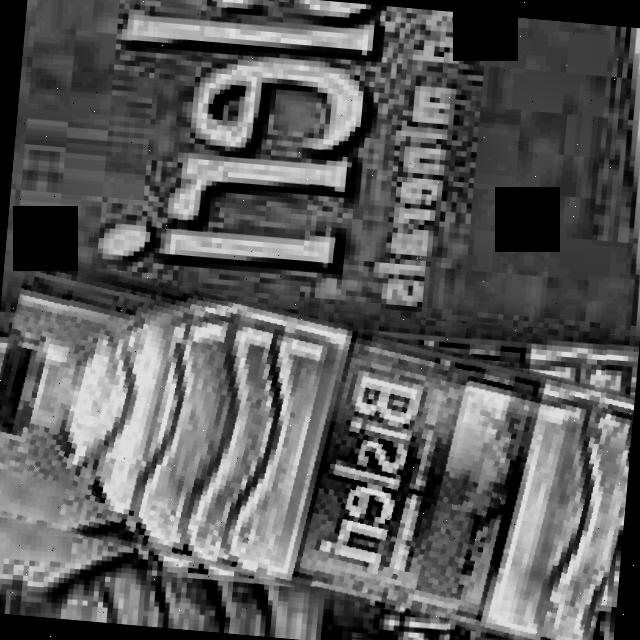bottle: (0, 301, 634, 640)
